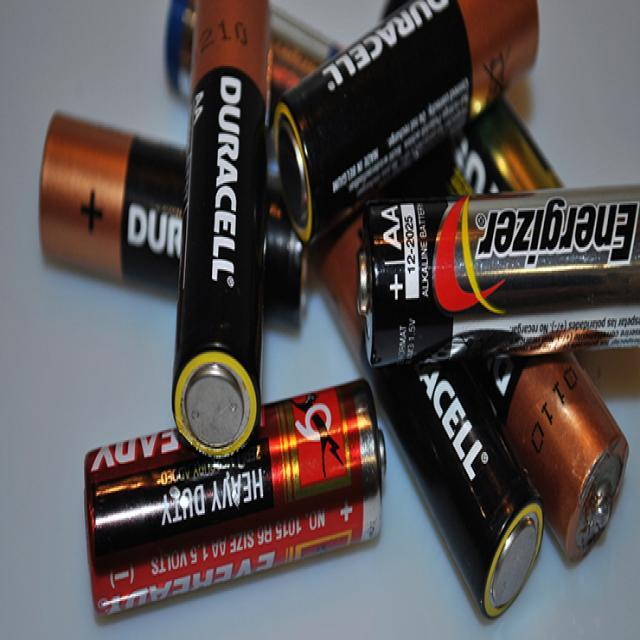battery: (84, 373, 388, 620), (272, 0, 540, 249), (39, 106, 310, 330), (357, 181, 640, 368), (172, 0, 269, 460)
